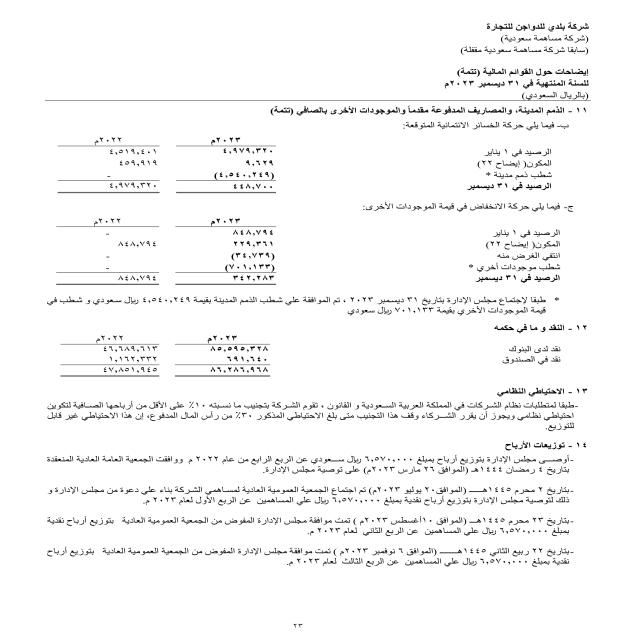notes: (448, 64, 592, 78)
table: (39, 208, 289, 297), (45, 126, 289, 198), (44, 328, 277, 385)
